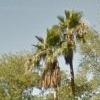Tree: (31, 10, 100, 92)
